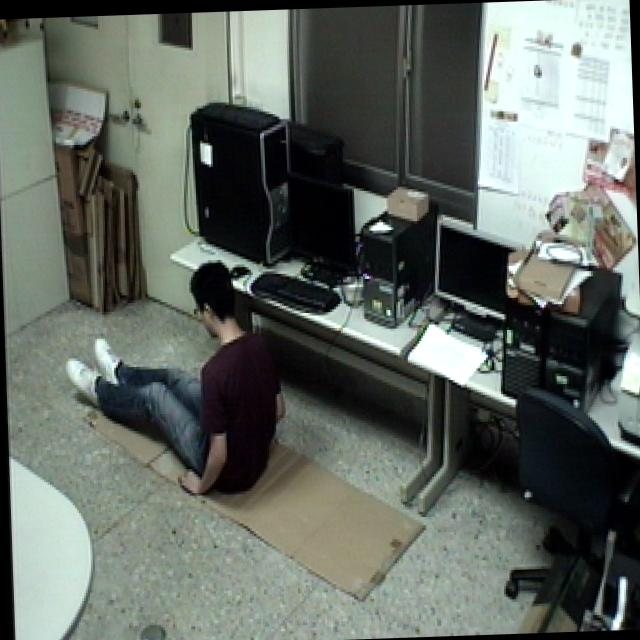sit: (49, 248, 298, 522)
